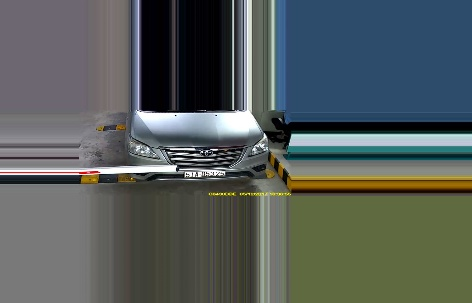plate: (184, 168, 225, 177)
